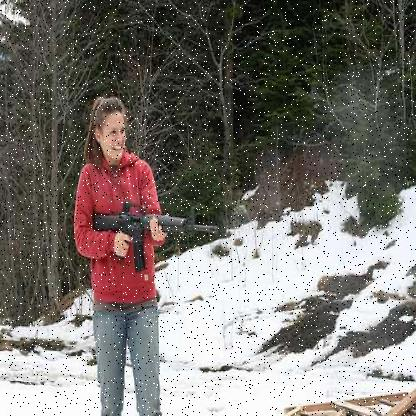rifle: (76, 186, 231, 280)
